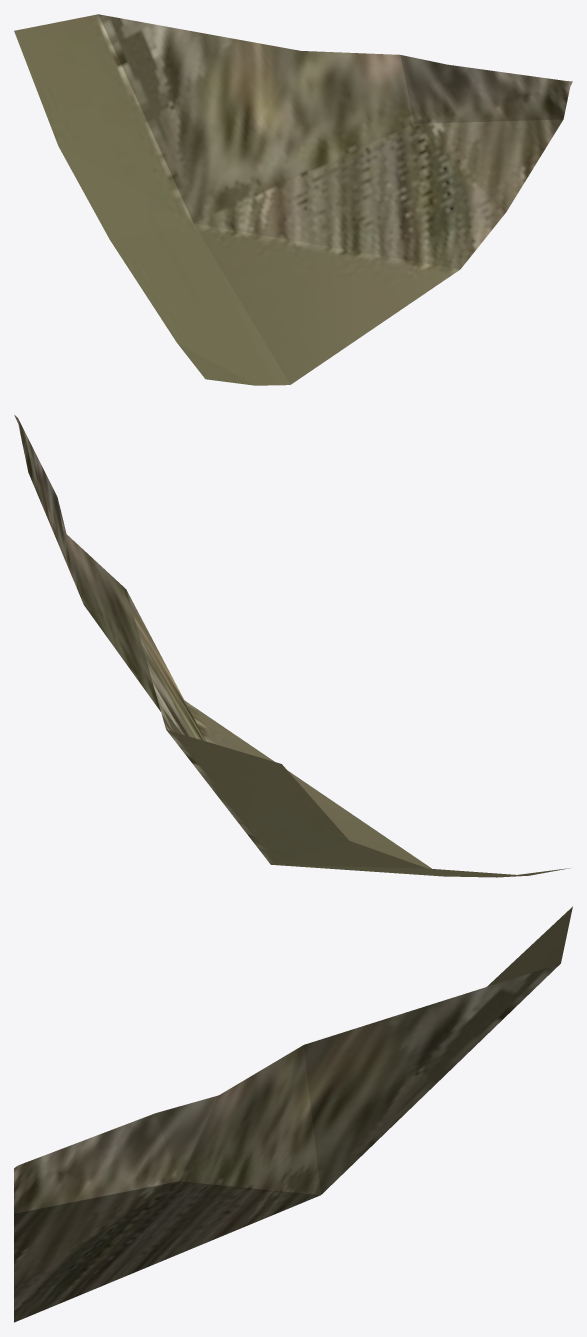
3 renders of one model, top to bottom at view 1: azimuth 30°, elevation 25°; view 2: azimuth 150°, elevation 25°; view 3: azimuth 270°, elevation 25°, orthographic. The views are drawn at different scales.
Bounding box in the file's own units: 1.25 × 0.7613 × 1.12.
1 material, 1 textured.
